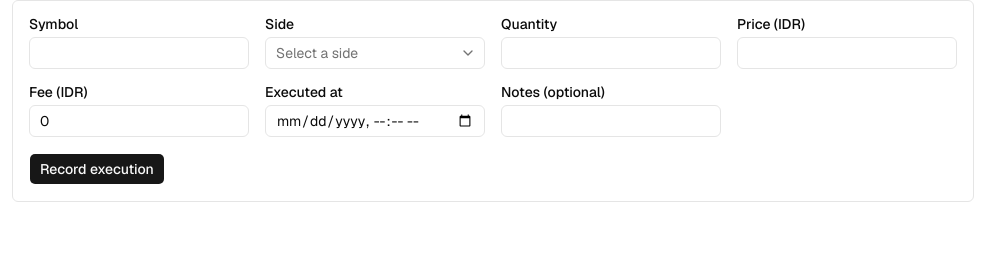
Test: ExecutionForm › shows the backend's own message when the request fails (e.g. overselling), not a generic apology
Type "bbca" into the field labelled "Symbol" at point(139, 53), box [29, 37, 249, 69]
Click the dropdown labelled "side" at point(375, 53), box [265, 37, 485, 69]
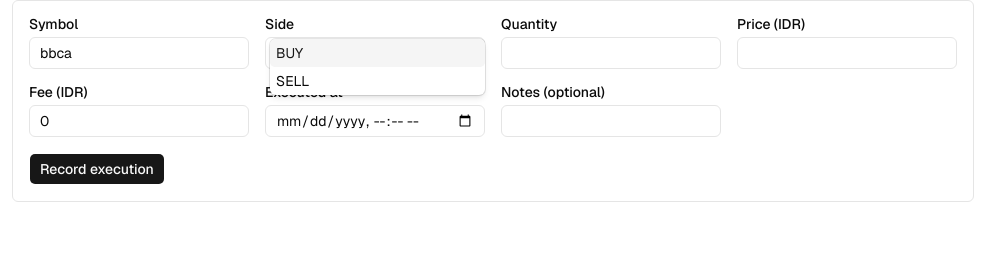
Click the option "BUY" at point(378, 53), box [270, 39, 485, 67]
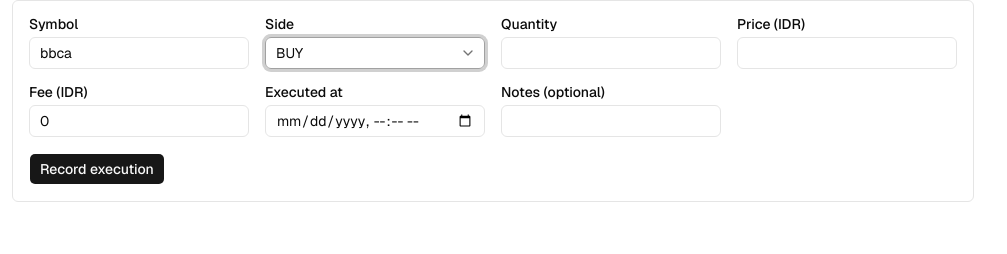
Type "100" into the number field labelled "Quantity" at point(611, 53), box [501, 37, 721, 69]
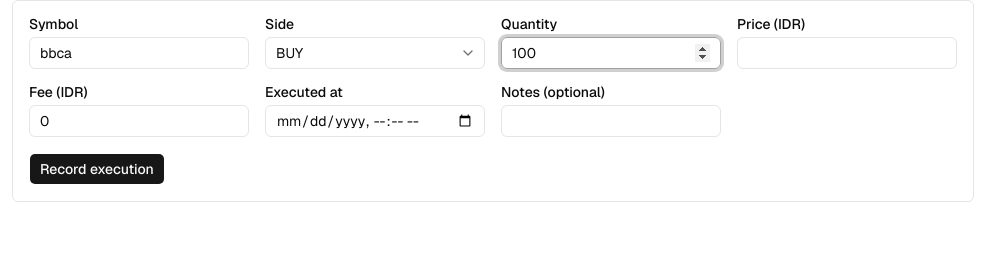
Type "1050" into the number field labelled "Price (IDR)" at point(847, 53), box [737, 37, 957, 69]
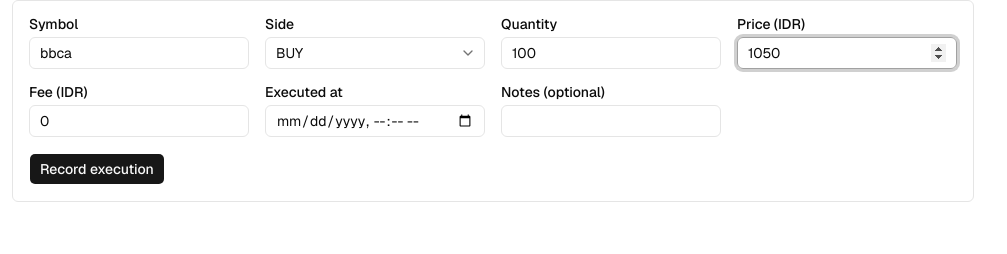
Type "2024-03-01T09:30" into the field labelled "Executed at" at point(375, 121), box [265, 105, 485, 137]
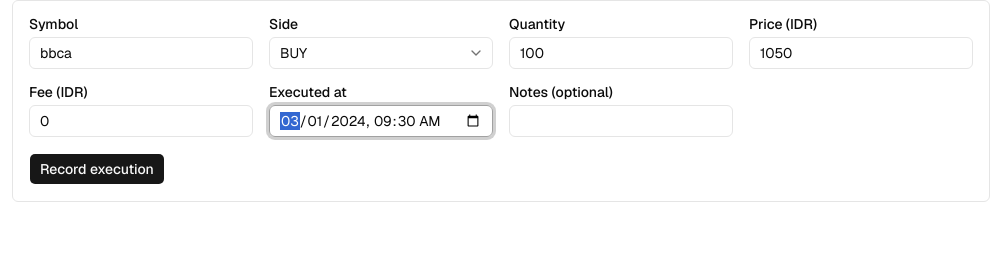
Click the button "Record execution" at point(97, 169), box [29, 153, 165, 185]
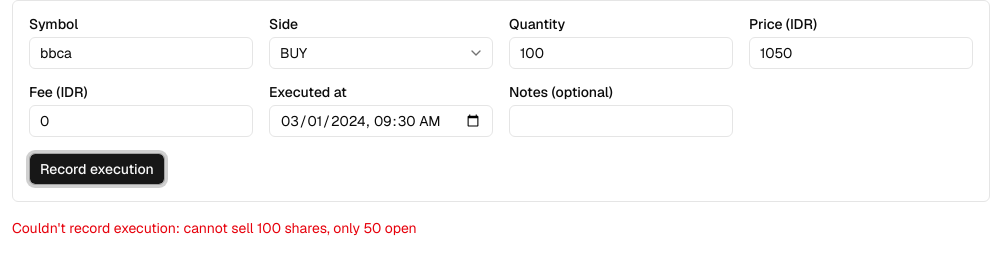
Now the text "cannot sell 100 shares, only 50 open" is shown, box [184, 219, 417, 237]
